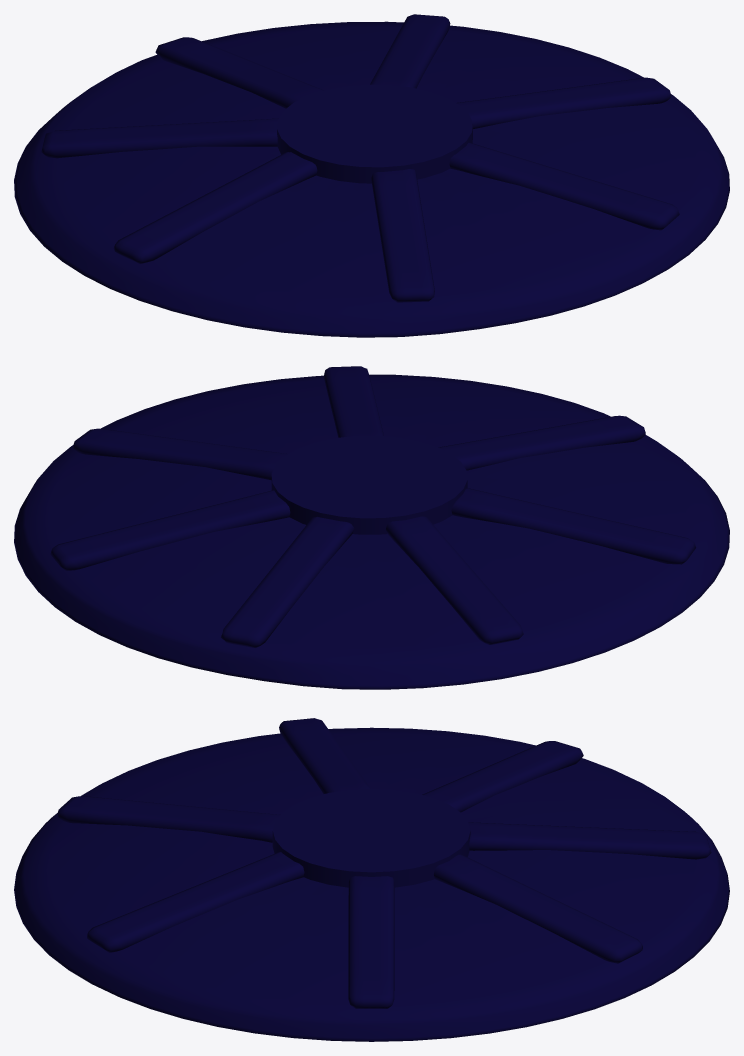
File: couvercle_poubelle.fbx
The picture shows the model from 3 angles, top to bottom: view 1: azimuth 30°, elevation 25°; view 2: azimuth 150°, elevation 25°; view 3: azimuth 270°, elevation 25°; orthographic projection.
Visible parts, largest first — view 1: couvercle_poubelle; view 2: couvercle_poubelle; view 3: couvercle_poubelle.
Part boxes in pixels (x1,y1,x2,y2): couvercle_poubelle: [14, 14, 729, 337]; couvercle_poubelle: [14, 366, 729, 689]; couvercle_poubelle: [14, 718, 729, 1041].
Size of the model in its own units: 17.55 by 1.66 by 17.42.
